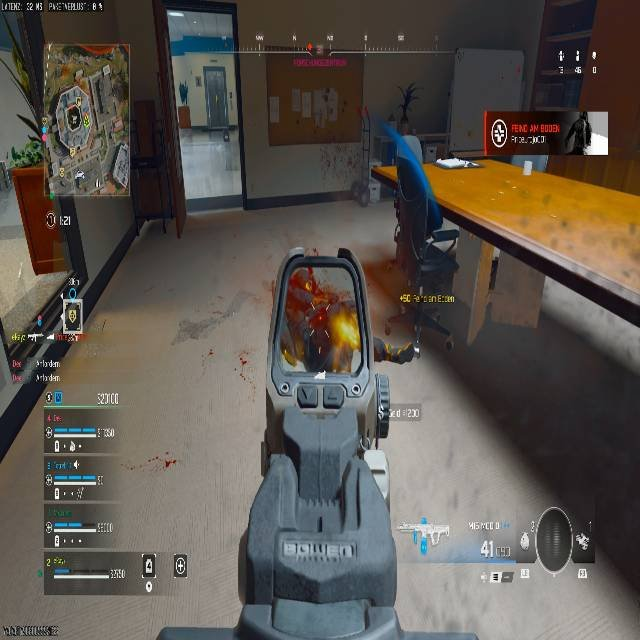head: (290, 266, 318, 295)
player: (360, 87, 461, 275), (394, 82, 420, 132)
